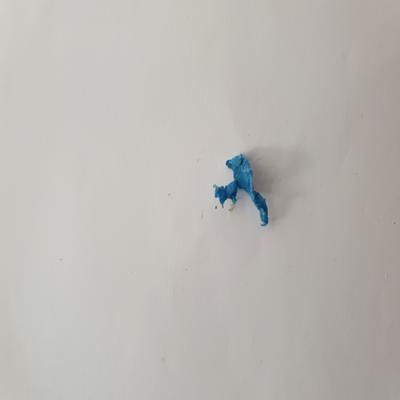plastic: (208, 151, 271, 231)
